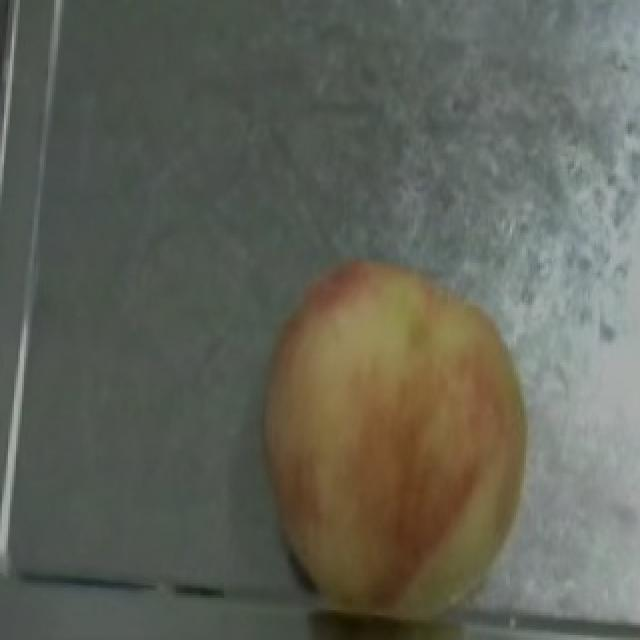Fruit: (246, 238, 544, 541)
